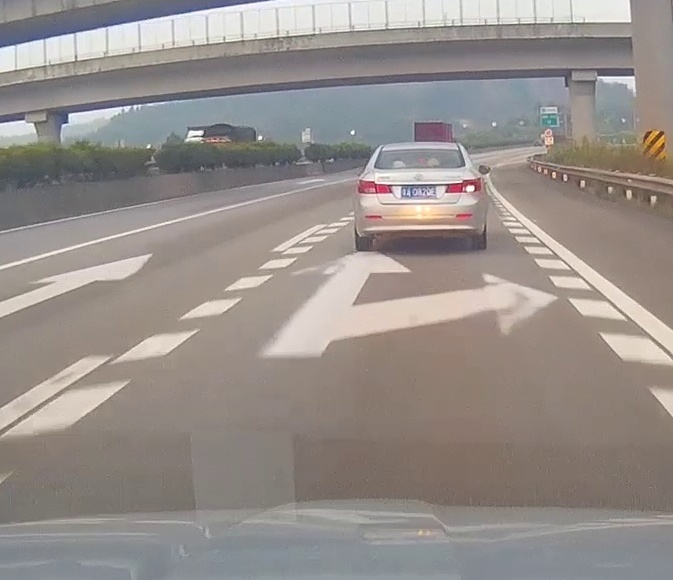L_light: (357, 179, 393, 194)
R_light: (444, 177, 481, 194)
T_light: (407, 165, 433, 168)
day-right: (354, 142, 487, 251)
